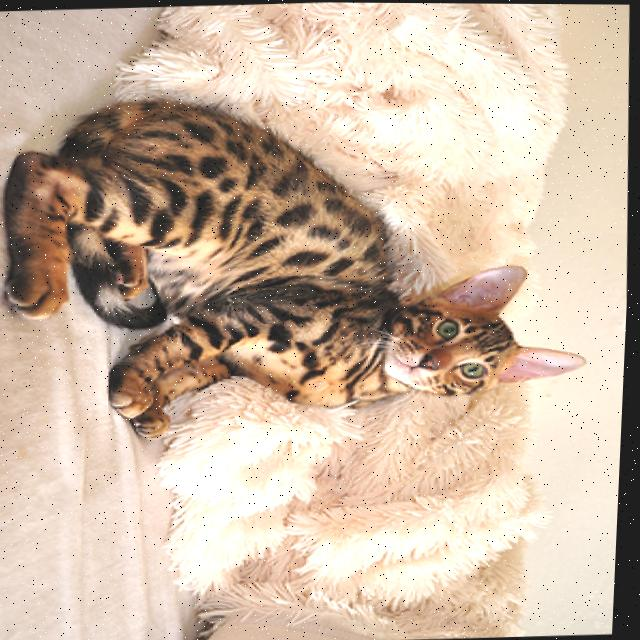Bengal: (0, 77, 611, 452)
